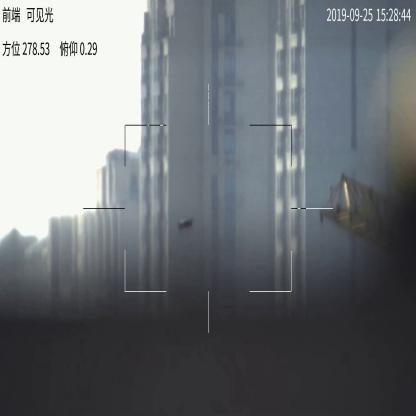uav: (177, 216, 193, 228)
